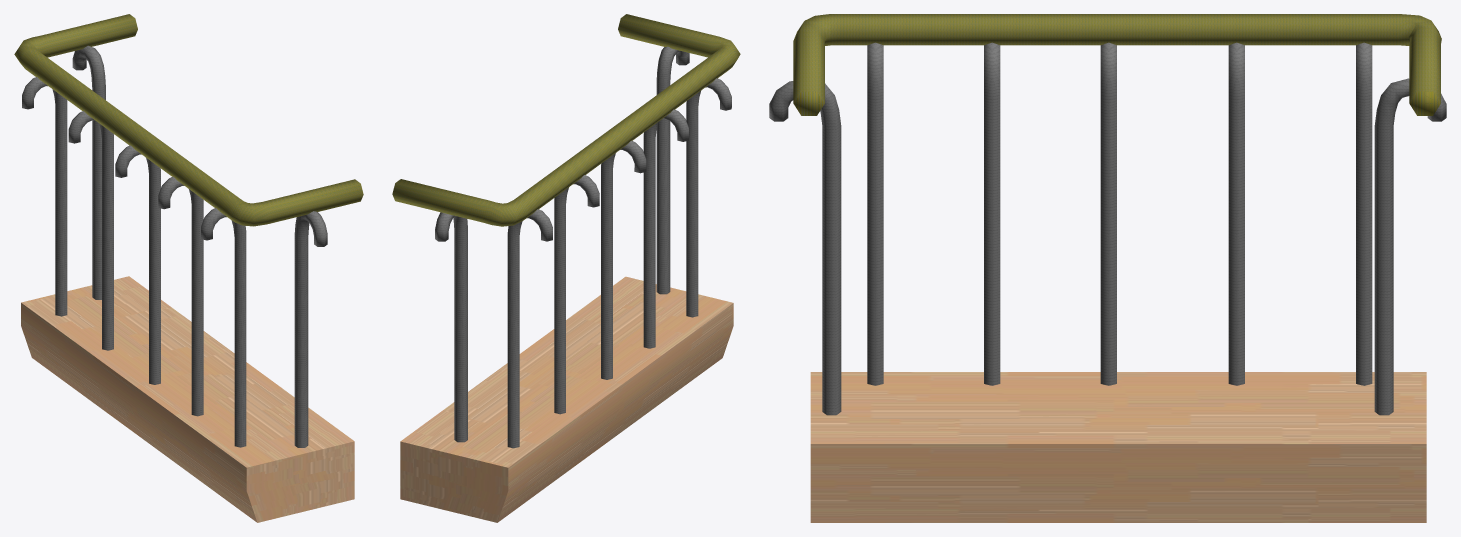
File: Balcony_01.fbx
3 views of the same model, side by side, from view 1: azimuth 30°, elevation 25°; view 2: azimuth 150°, elevation 25°; view 3: azimuth 270°, elevation 25° (orthographic). The views are drawn at different scales.
Visible parts, largest first — view 1: Balcony_01; view 2: Balcony_01; view 3: Balcony_01.
Part boxes in pixels (x1,y1,x2,y2): Balcony_01: [14, 14, 363, 522]; Balcony_01: [392, 14, 740, 522]; Balcony_01: [769, 14, 1446, 522].
Bounding box in the file's own units: 66.61 × 152 × 215.
3 materials, 3 textured.
